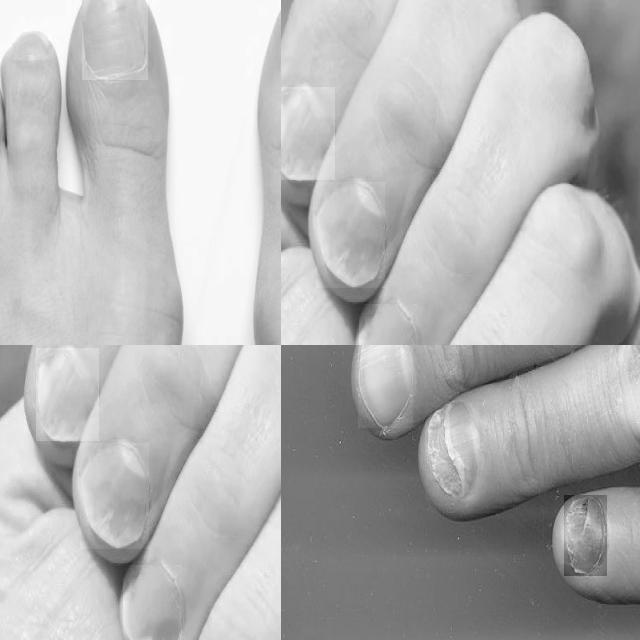diabetes: (316, 182, 385, 288), (80, 443, 149, 549), (37, 349, 99, 441), (425, 403, 479, 500), (83, 0, 148, 80), (281, 88, 335, 180), (124, 566, 182, 640), (564, 495, 607, 576), (361, 305, 418, 345), (12, 32, 50, 61)
sehat: (358, 345, 413, 428)
